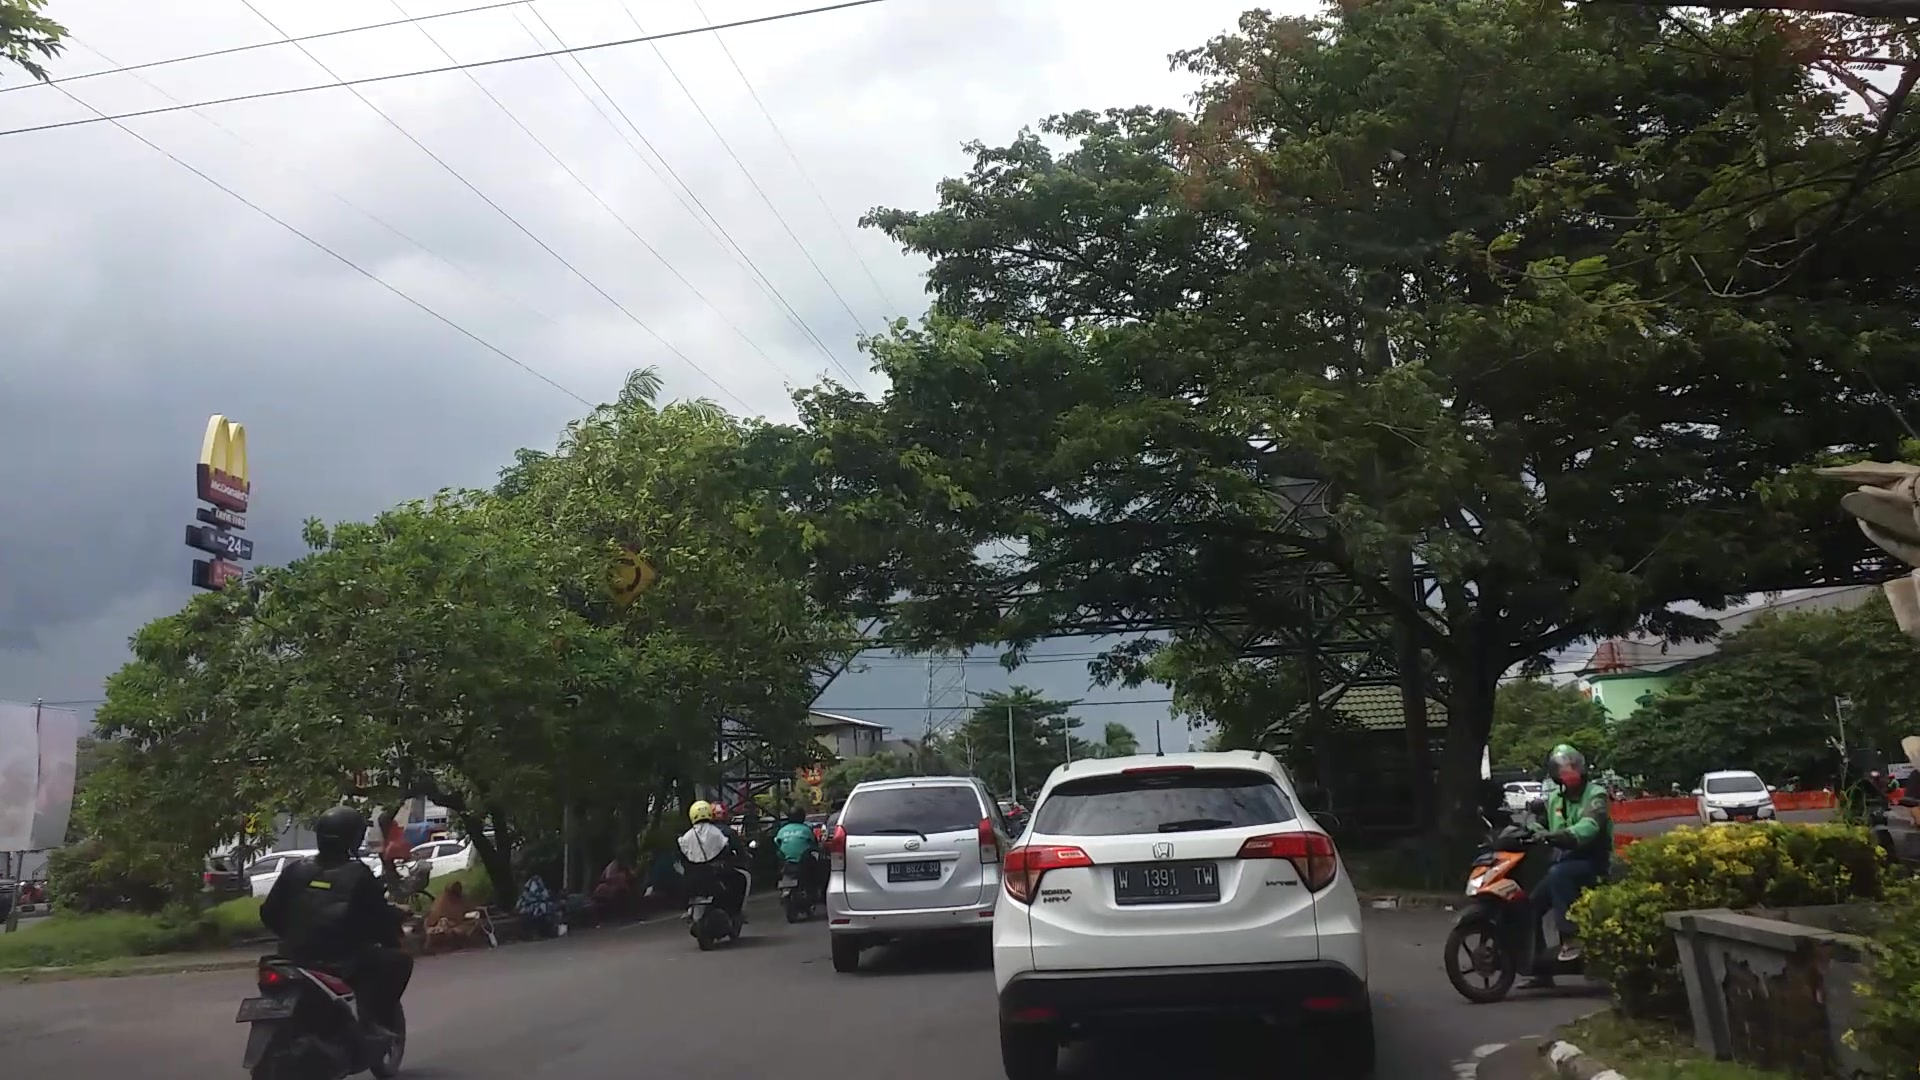plate_positive: (1114, 861, 1220, 903)
